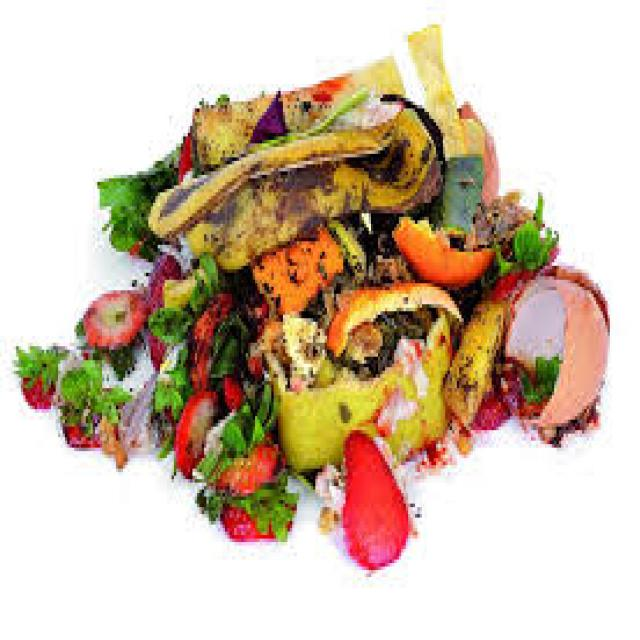organic waste: (146, 91, 443, 269), (188, 52, 406, 161), (95, 95, 227, 262), (499, 262, 605, 441), (272, 353, 394, 472), (440, 276, 508, 451), (376, 311, 452, 465), (339, 420, 408, 570), (322, 280, 459, 353), (443, 294, 512, 426), (401, 17, 466, 154), (185, 276, 258, 392), (250, 217, 338, 311), (195, 398, 271, 504), (392, 203, 489, 280), (56, 357, 128, 458), (79, 280, 146, 374), (197, 476, 295, 538), (150, 262, 222, 336), (116, 378, 174, 468), (492, 185, 554, 266), (373, 426, 420, 532), (426, 150, 484, 231), (258, 314, 322, 384), (491, 224, 552, 294), (172, 384, 216, 476), (457, 94, 496, 196), (464, 182, 526, 241), (14, 339, 63, 409), (146, 245, 183, 315), (313, 448, 343, 532), (327, 214, 364, 276), (151, 339, 183, 409), (468, 371, 506, 426), (362, 242, 410, 284), (406, 434, 450, 468), (459, 108, 485, 154), (450, 409, 473, 458), (146, 318, 167, 371), (396, 434, 399, 437)
